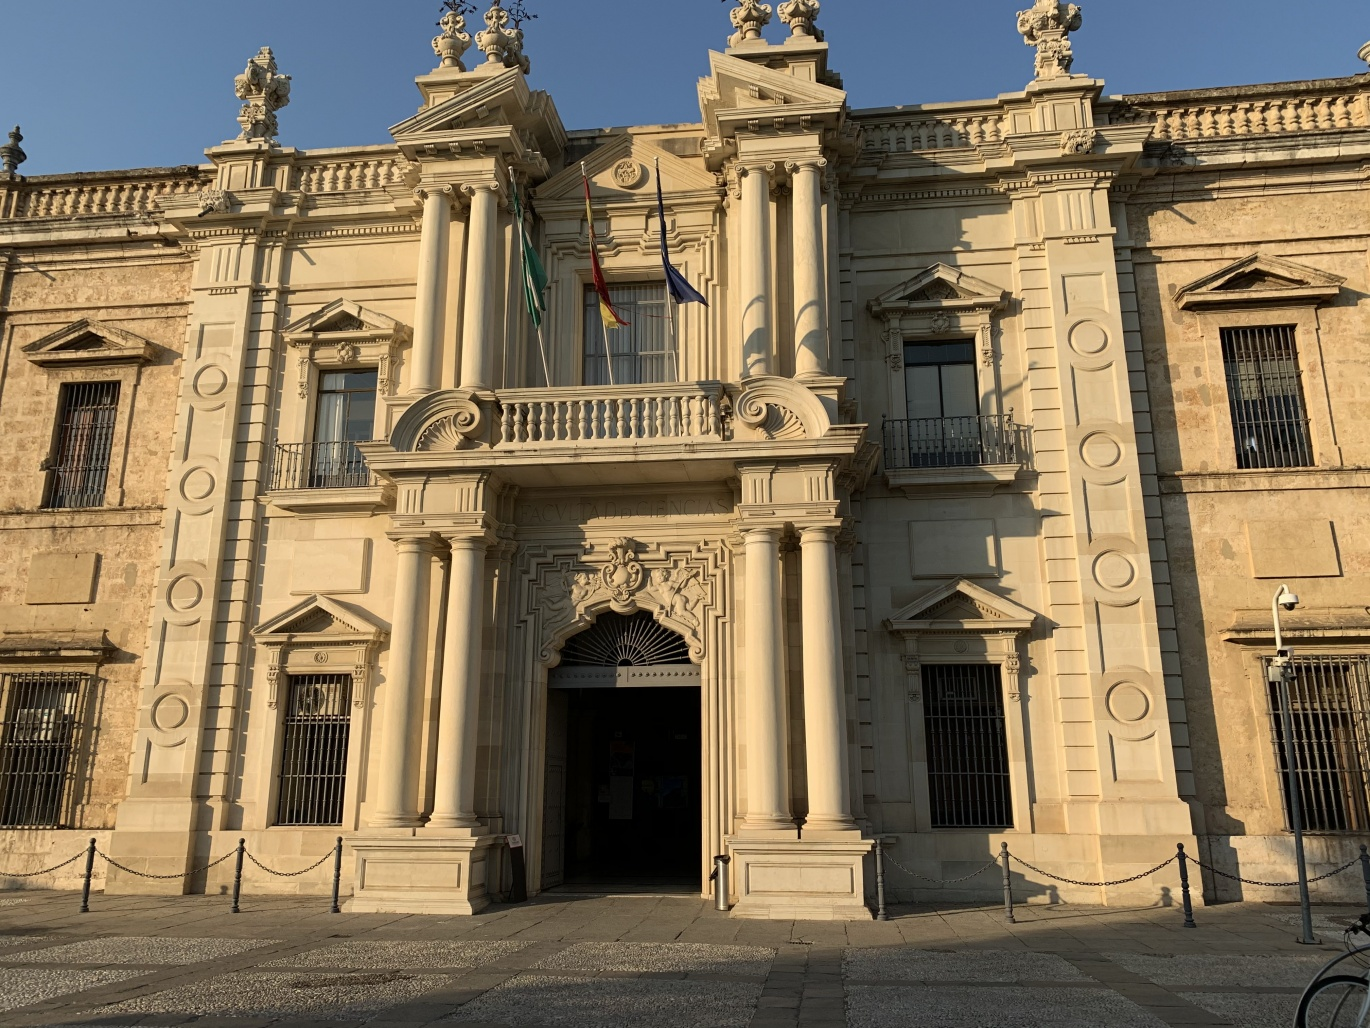fronton: (534, 140, 720, 203), (1182, 249, 1348, 311), (889, 573, 1052, 635), (873, 260, 1015, 313), (250, 592, 386, 646), (22, 317, 161, 369), (282, 298, 411, 344)
fronton-partido: (381, 37, 851, 152), (388, 378, 836, 466)
vano-adintelado: (1238, 616, 1370, 846), (907, 642, 1037, 834), (1202, 301, 1338, 471), (253, 653, 374, 826), (885, 316, 1010, 469), (1, 657, 108, 827), (31, 365, 144, 504), (295, 349, 388, 484)
